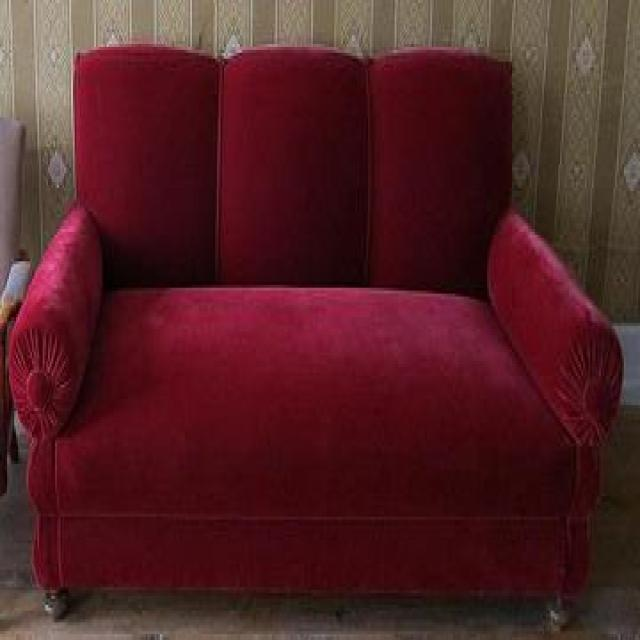sofa: (11, 47, 624, 632)
